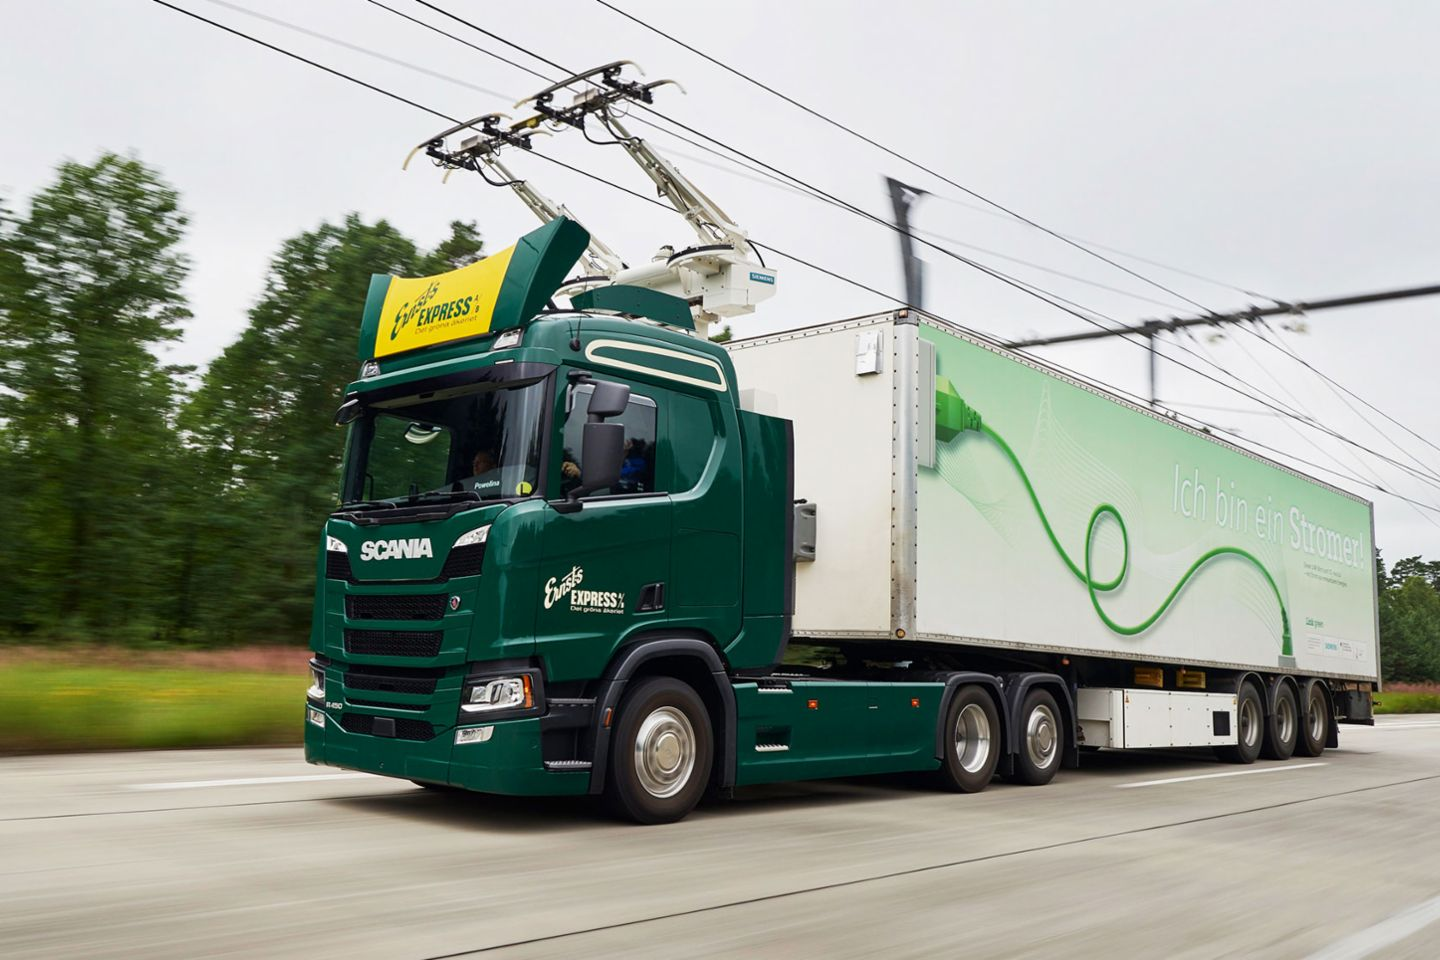Truck: (305, 272, 902, 814)
